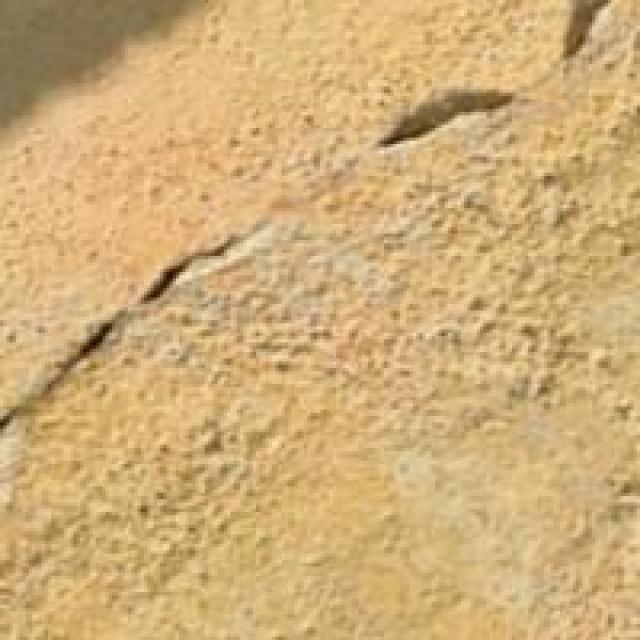crack: (0, 0, 637, 426)
